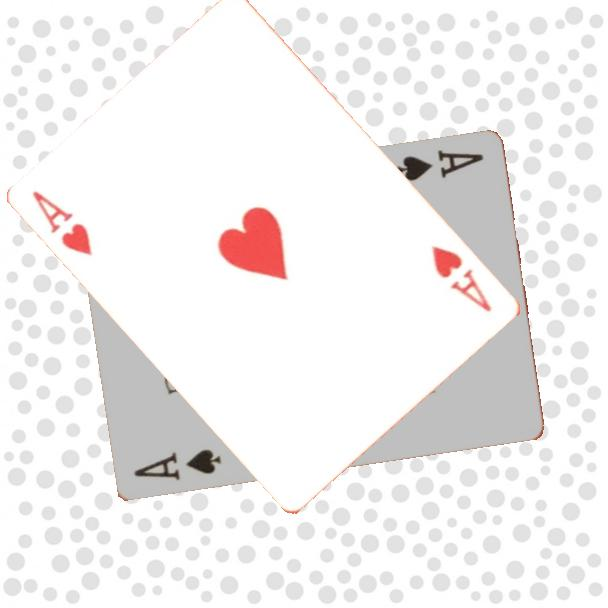h01: (428, 242, 496, 315), (29, 187, 96, 260)
s01: (393, 146, 486, 185), (130, 446, 224, 484)
